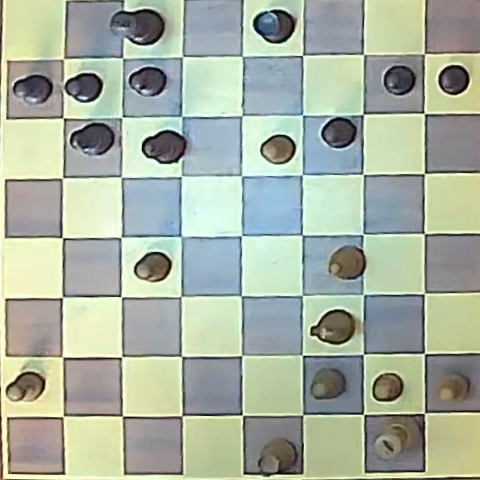black-bishop: (142, 130, 186, 164), (70, 123, 114, 156)
black-king: (111, 8, 164, 46)
black-pawn: (13, 74, 53, 105), (64, 72, 103, 103), (128, 67, 166, 96), (321, 117, 356, 148), (383, 65, 416, 95), (438, 65, 470, 95)
black-rook: (254, 9, 294, 44)
white-bishop: (328, 246, 366, 280)
white-king: (373, 417, 420, 461)
white-knight: (310, 310, 354, 346)
white-pawn: (6, 372, 45, 403), (134, 252, 171, 282), (310, 368, 344, 399), (261, 134, 295, 164), (372, 373, 403, 402), (437, 374, 468, 402)
white-rook: (258, 439, 296, 474)
